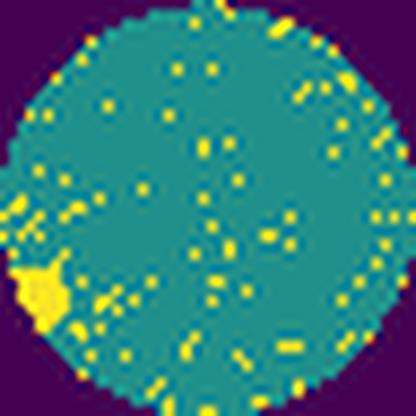Edge-Loc: (5, 263, 77, 337)
